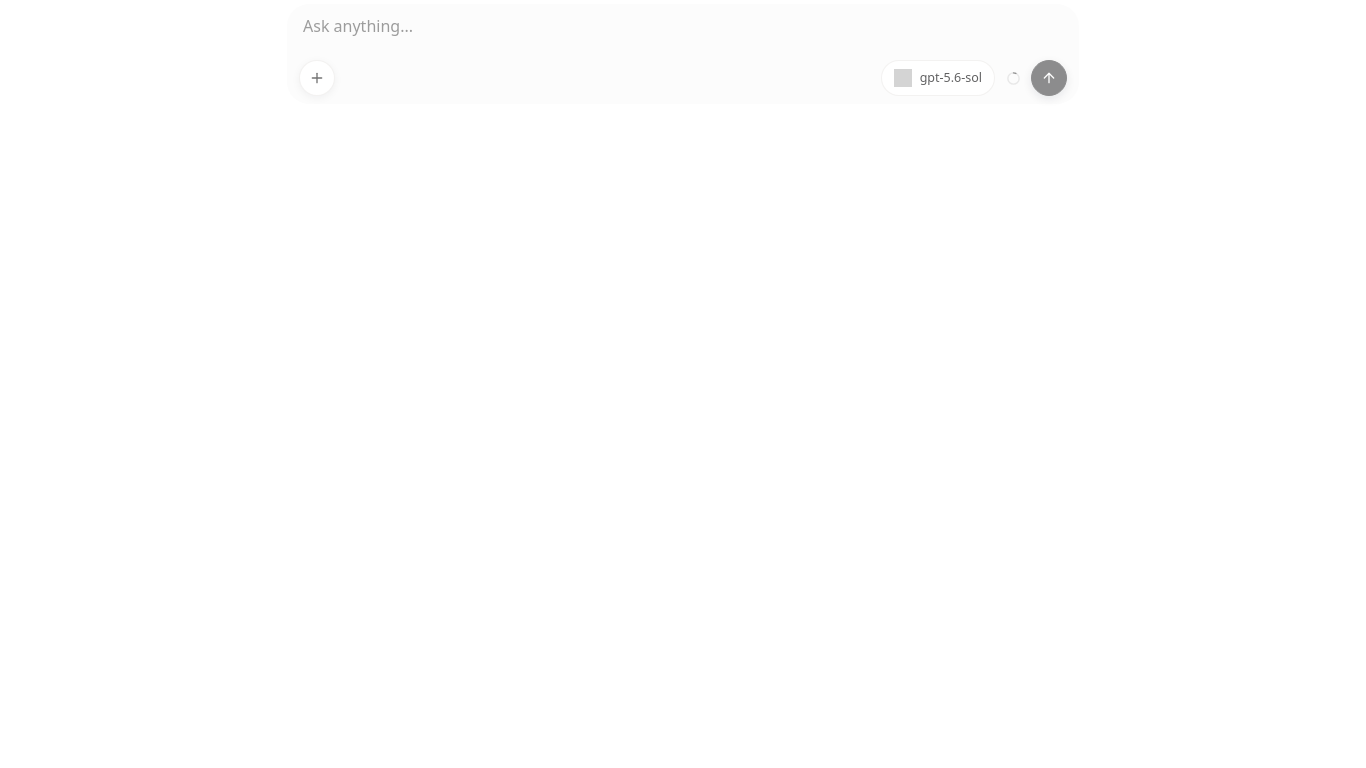
Test case: ThreadComposer › opens an input-token chart with one bar for each logical round
Click the button with test id "composer-context-usage" at [1013, 78], box [1003,68,1023,88]
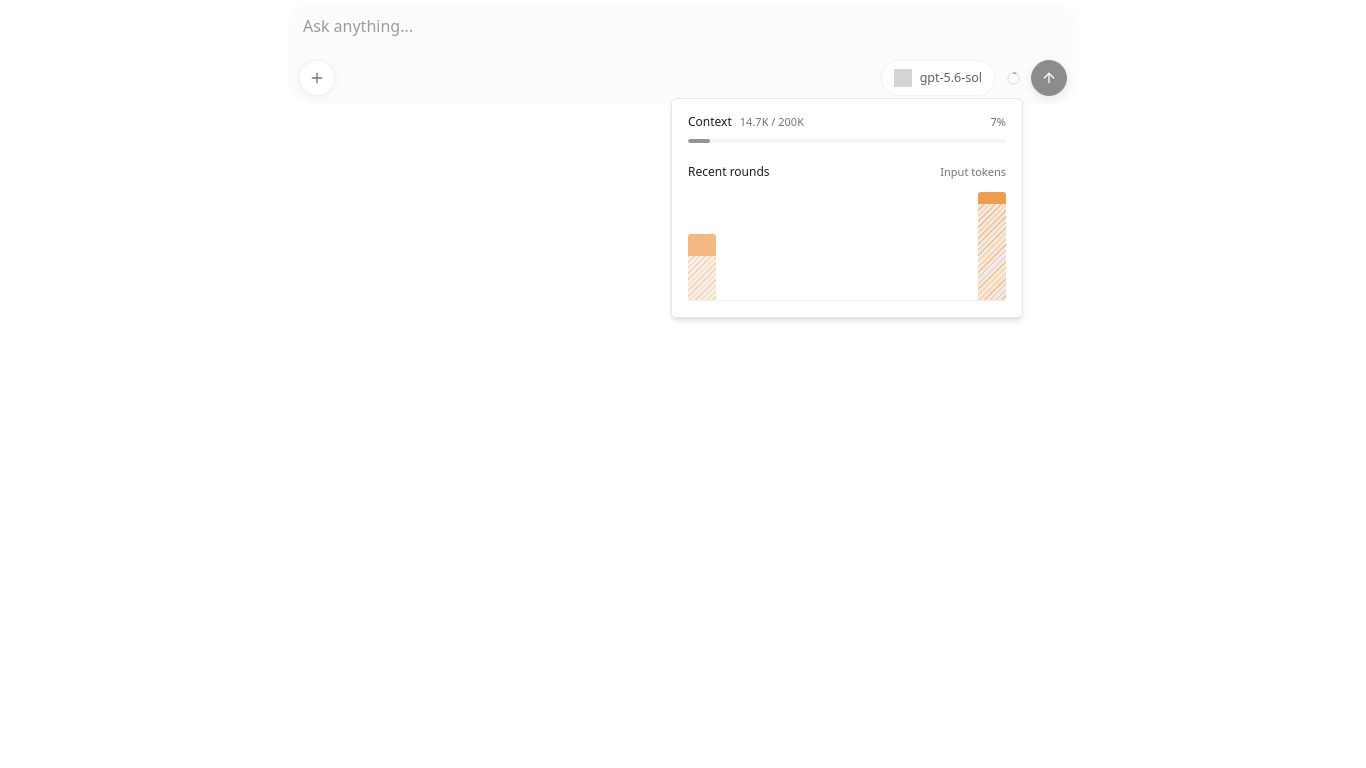
expect the text "Context" is shown: met, box [688,113,732,131]
expect the text "14.7K / 200K" is shown: met, box [740,114,804,130]
expect the text "Recent rounds" is shown: met, box [688,163,770,181]
